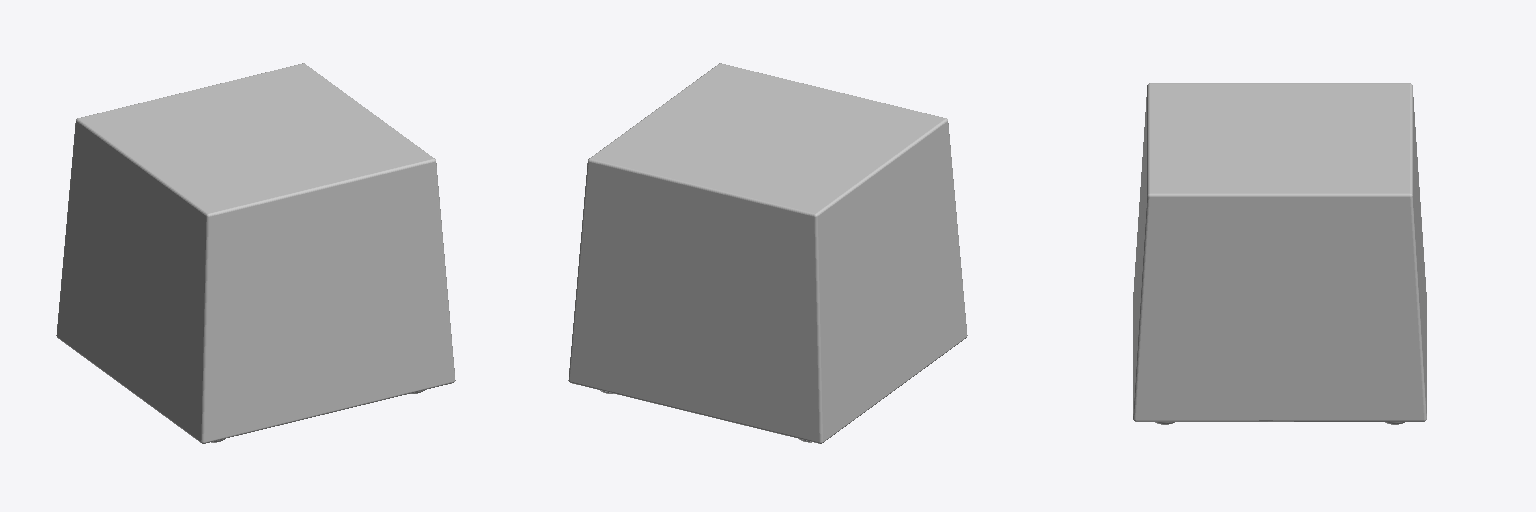
Rendered from Lime.obj.
The picture shows the model from 3 angles: view 1: azimuth 30°, elevation 25°; view 2: azimuth 150°, elevation 25°; view 3: azimuth 270°, elevation 25°; orthographic projection.
Parts seen in each view (by area): view 1: default; view 2: default; view 3: default.
Boxes of the visible parts, box(x1,y1,x2,y2) form: default: box(56, 63, 455, 443); default: box(568, 63, 967, 443); default: box(1133, 83, 1426, 421).
Size of the model in its own units: 509 by 450 by 509.